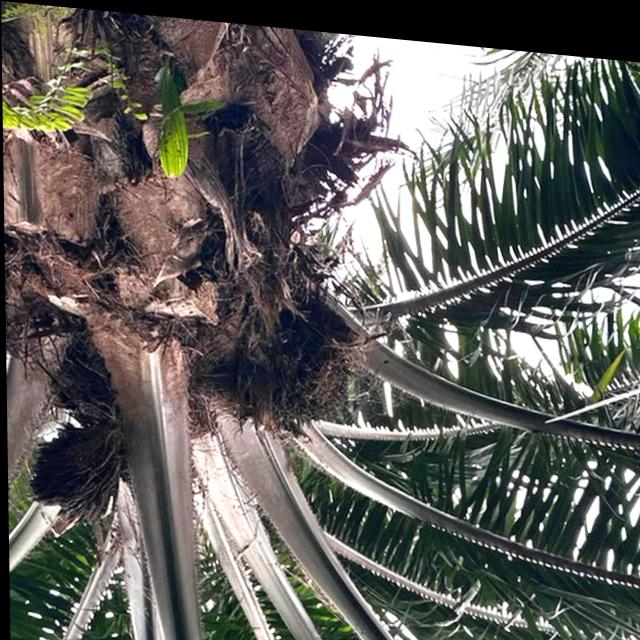unripe: (243, 297, 370, 435)
